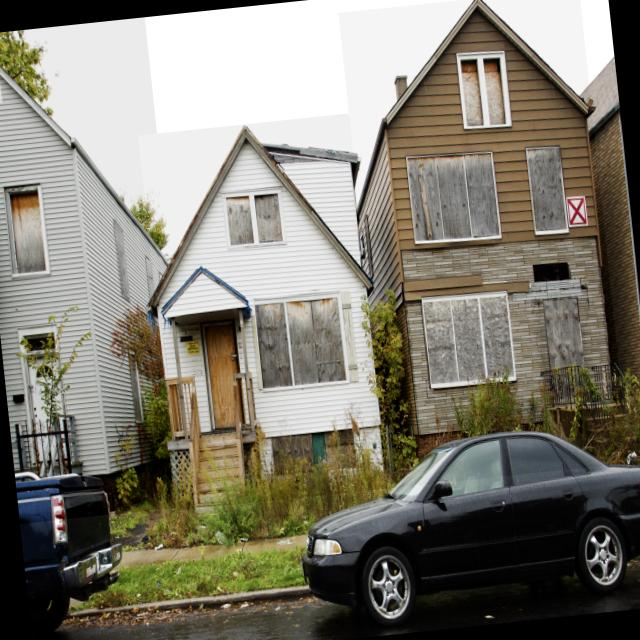House: (338, 0, 629, 488), (138, 112, 394, 510), (0, 16, 195, 523)
